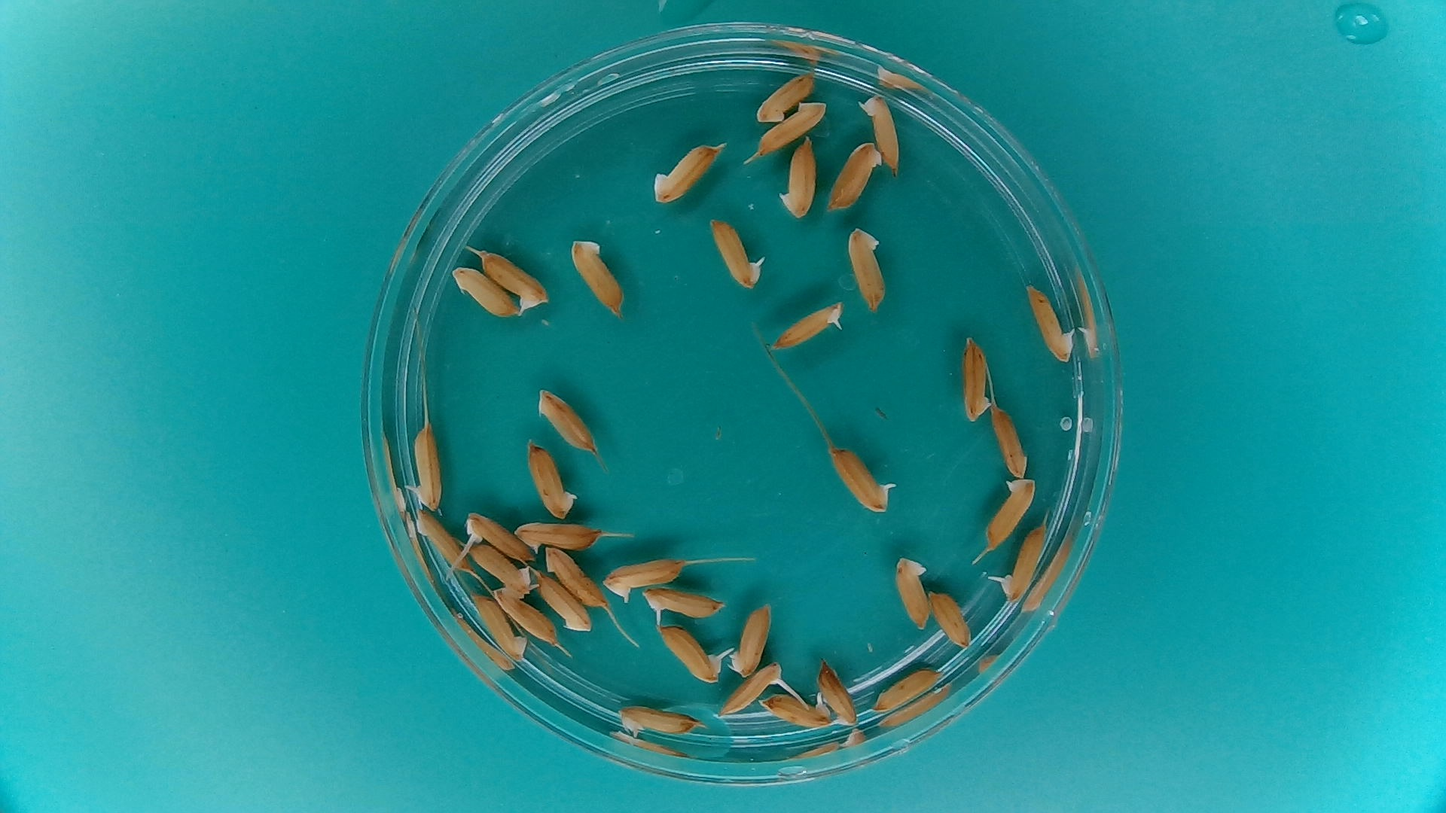no: (566, 234, 632, 324), (648, 135, 727, 208), (752, 99, 828, 160), (535, 385, 599, 455), (468, 589, 527, 662), (826, 140, 881, 214), (545, 547, 609, 609), (527, 443, 577, 522), (872, 661, 945, 715), (448, 265, 522, 318), (416, 510, 473, 578), (465, 540, 535, 594), (985, 477, 1037, 549), (775, 136, 818, 219), (753, 69, 819, 123), (537, 571, 594, 632), (614, 699, 703, 738), (728, 604, 773, 679), (892, 552, 933, 633), (850, 230, 889, 311), (991, 401, 1031, 479), (514, 518, 602, 553), (816, 658, 860, 727), (927, 587, 974, 649), (962, 334, 993, 424)
yes: (825, 449, 897, 515), (1022, 280, 1078, 364), (716, 662, 786, 721), (480, 250, 549, 308), (466, 510, 538, 565), (490, 588, 557, 645), (657, 625, 722, 683), (709, 218, 765, 285), (602, 558, 686, 602), (770, 303, 844, 351), (860, 93, 901, 176), (1005, 527, 1050, 598), (639, 586, 724, 621), (410, 422, 443, 510), (760, 692, 833, 728)
